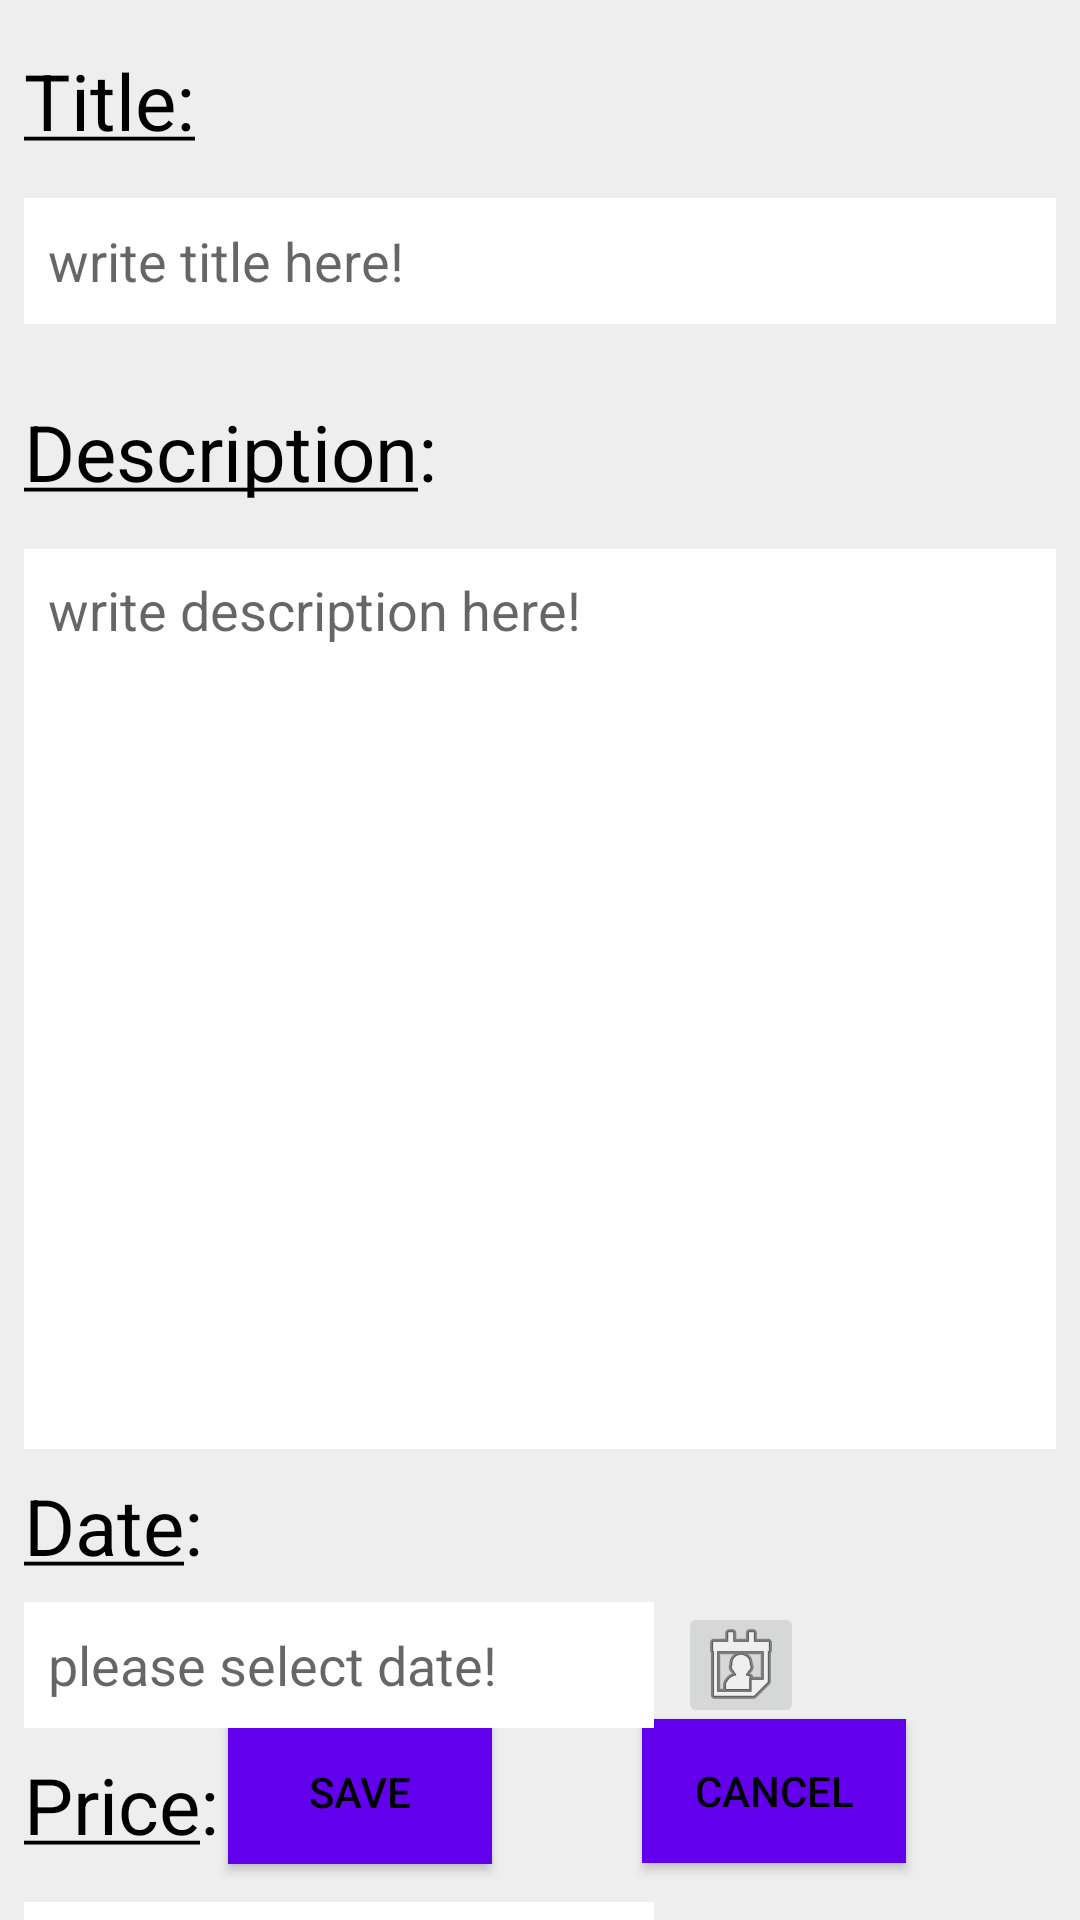

Named icons in this screenshot (1080 × 1920) and their bounding boxes, (x1, y1, x2, y2):
calendar: (710, 1629, 772, 1699)
